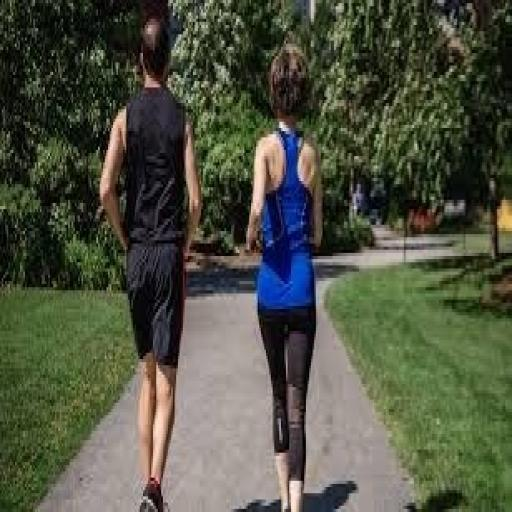running: (96, 12, 204, 509), (243, 37, 326, 509)
